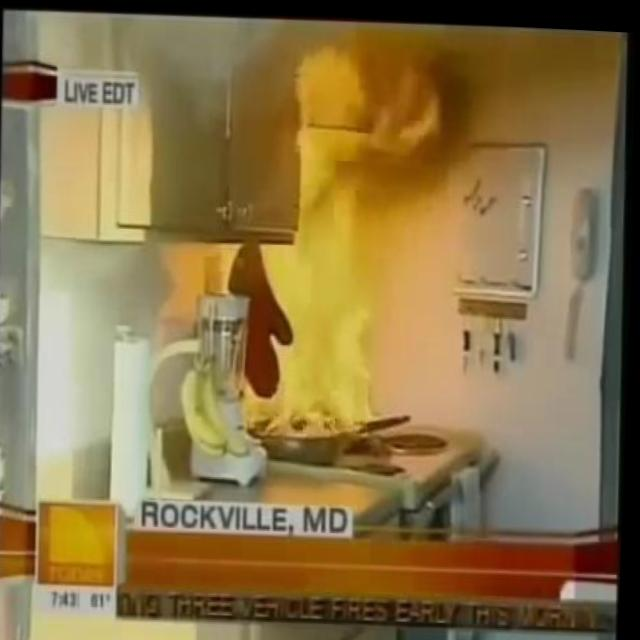fire: (219, 34, 456, 444)
